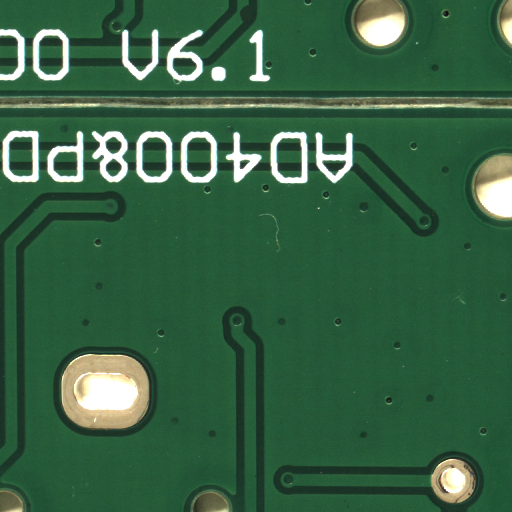Mouse_bite: (246, 14, 259, 32)
